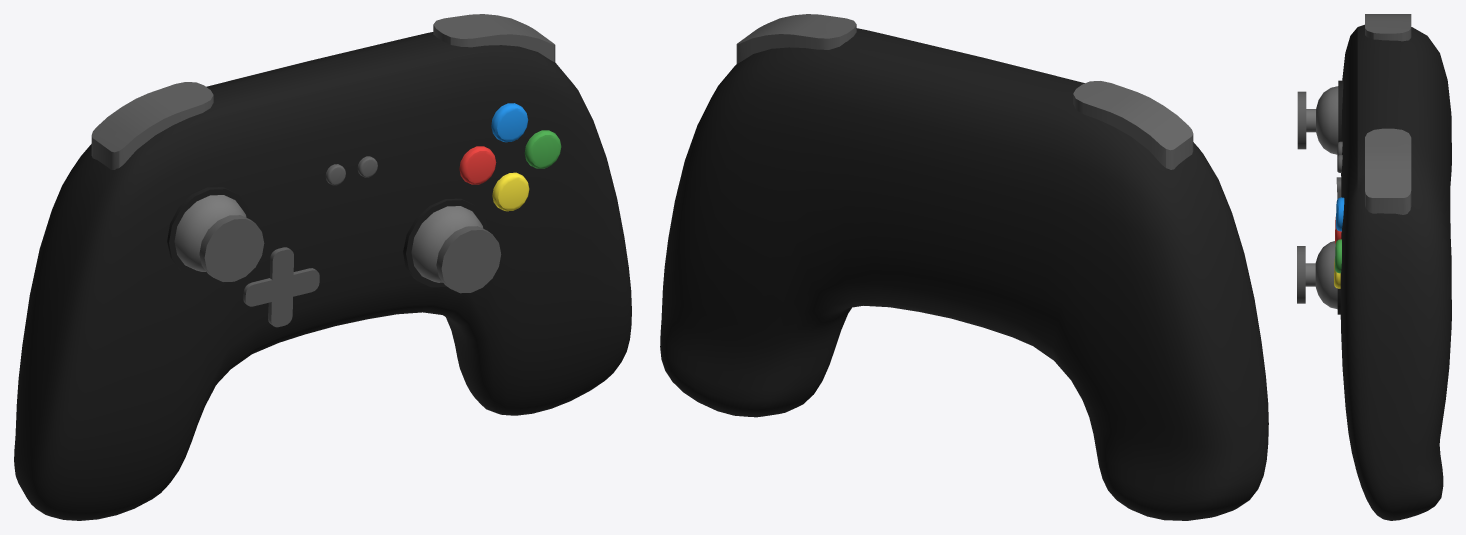
File: video_game.glb
The picture shows the model from 3 angles, left to right: view 1: azimuth 30°, elevation 25°; view 2: azimuth 150°, elevation 25°; view 3: azimuth 270°, elevation 25°; orthographic projection. The views are drawn at different scales.
Parts seen in each view (by area): view 1: Cube.841, Cube.843, Cylinder.490, Cylinder.489, Cube.842, Cylinder.483, Cylinder.484, Cylinder.486, Cylinder.485; view 2: Cube.841, Cube.843; view 3: Cube.841, Cube.843, Cylinder.489, Cylinder.490, Cylinder.483, Cylinder.485.
Part boxes in pixels (bbox=[...]): Cube.841: bbox=[14, 32, 631, 520]; Cube.843: bbox=[91, 14, 555, 169]; Cylinder.490: bbox=[403, 198, 501, 293]; Cylinder.489: bbox=[167, 187, 264, 281]; Cube.842: bbox=[243, 247, 319, 327]; Cylinder.483: bbox=[491, 103, 528, 142]; Cylinder.484: bbox=[492, 172, 529, 211]; Cylinder.486: bbox=[459, 146, 496, 184]; Cylinder.485: bbox=[524, 130, 561, 168]; Cube.841: bbox=[660, 28, 1268, 520]; Cube.843: bbox=[736, 14, 1193, 169]; Cube.841: bbox=[1340, 24, 1451, 520]; Cube.843: bbox=[1365, 14, 1411, 214]; Cylinder.489: bbox=[1297, 80, 1343, 154]; Cylinder.490: bbox=[1297, 241, 1340, 314]; Cylinder.483: bbox=[1336, 197, 1344, 231]; Cylinder.485: bbox=[1335, 239, 1341, 273].
Size of the model in its own units: 2.37 by 1.54 by 0.6338.
1 material, 1 textured.
